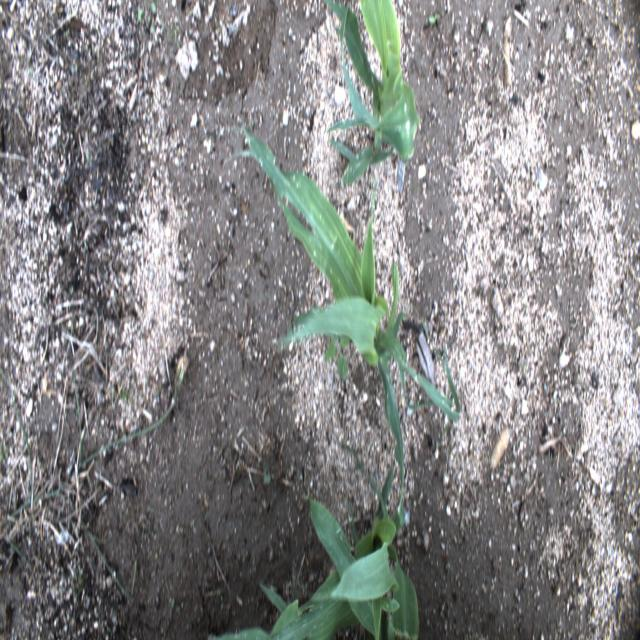crop: (242, 121, 462, 482), (216, 474, 419, 638), (331, 3, 420, 181)
weed: (140, 2, 161, 26), (427, 16, 442, 26)
